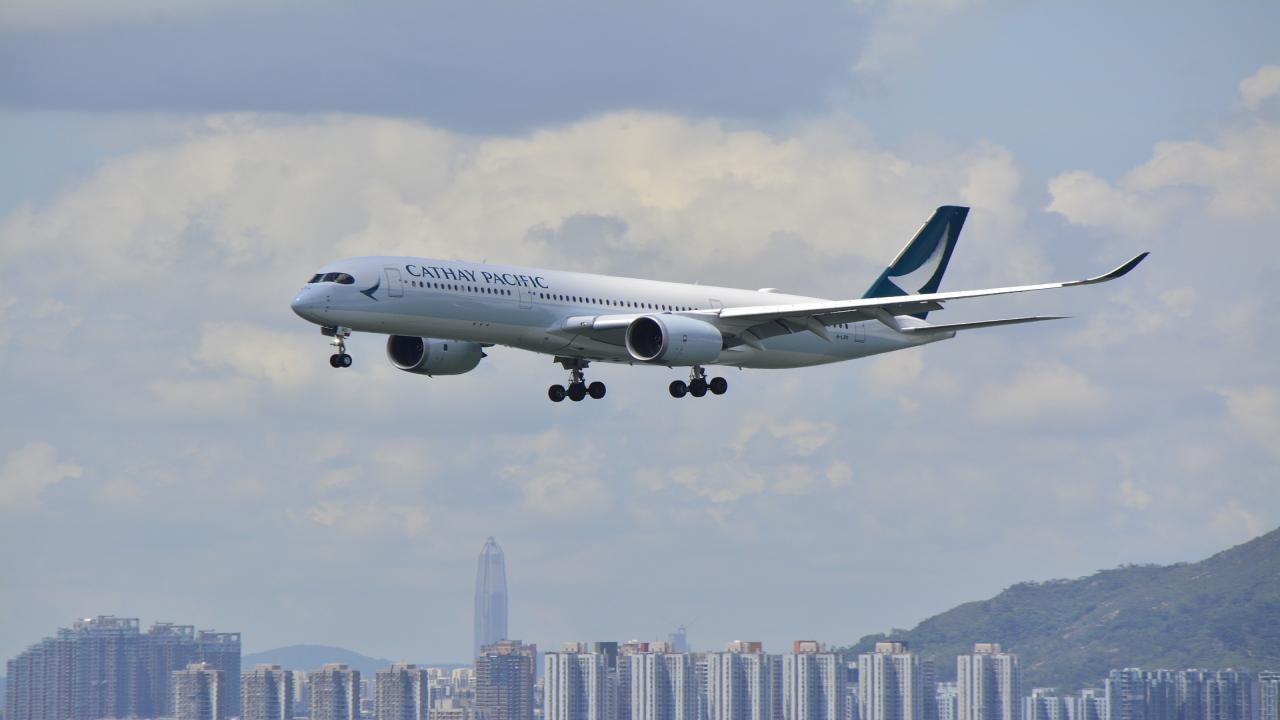Airplane: (268, 184, 1165, 407)
